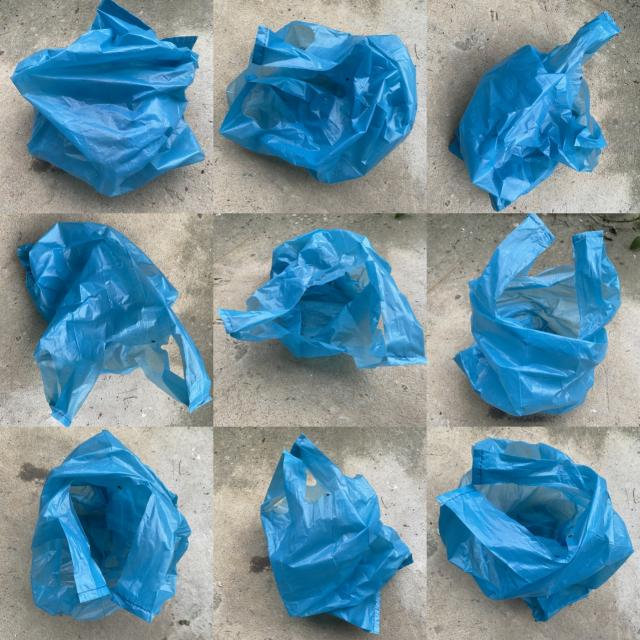Single-layer Plastic: (18, 222, 211, 426), (11, 0, 204, 196), (436, 438, 634, 621), (449, 12, 620, 211), (454, 214, 621, 416), (220, 21, 416, 183), (31, 430, 191, 621), (261, 435, 412, 632), (219, 229, 426, 369)
